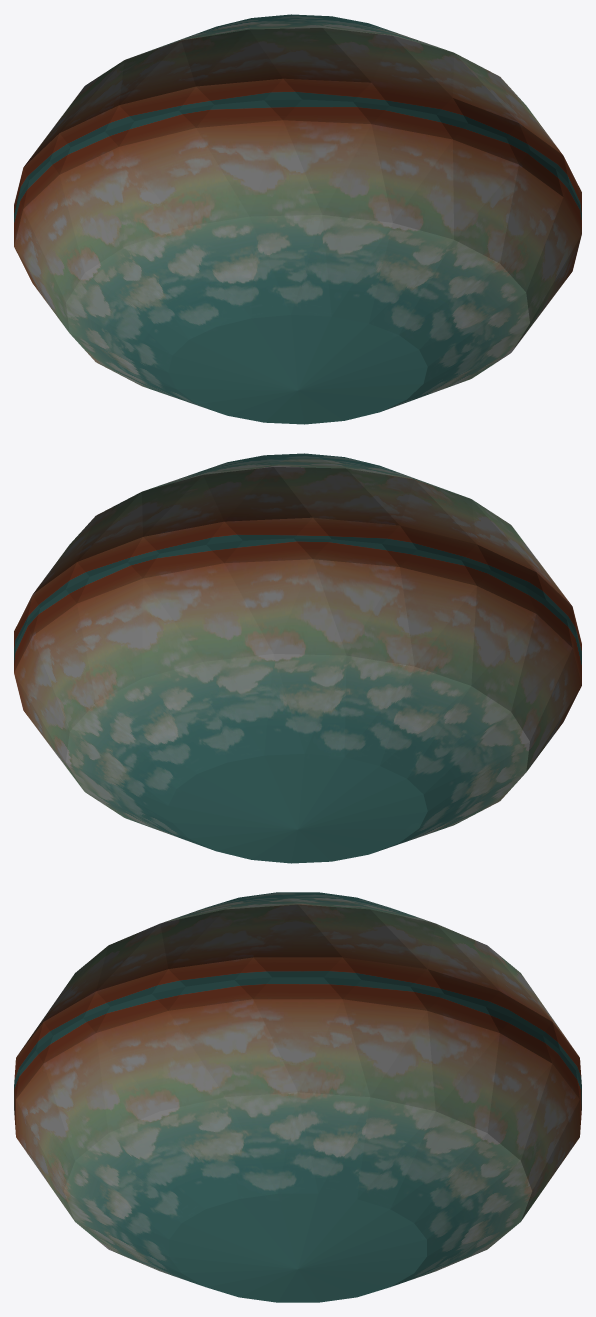
The model's file is vrcorn.glb.
3 views of the same model, one above another, from view 1: azimuth 30°, elevation 25°; view 2: azimuth 150°, elevation 25°; view 3: azimuth 270°, elevation 25° (orthographic).
Visible parts, largest first — view 1: polygon0; view 2: polygon0; view 3: polygon0.
Boxes of the visible parts, <box> form: polygon0: <box>14,14,581,424</box>; polygon0: <box>14,453,581,863</box>; polygon0: <box>14,892,581,1302</box>.
Bounding box in the file's own units: 3100 × 2069 × 3100.
1 material, 1 textured.
